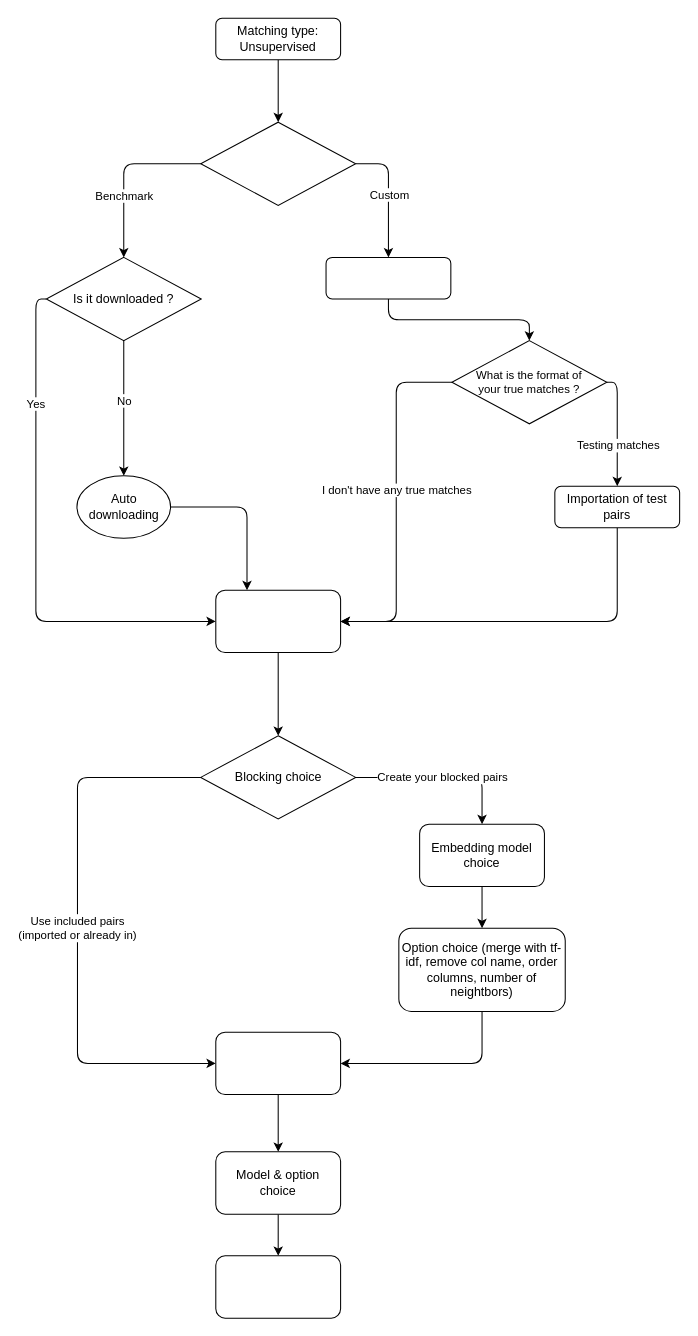
Image size: 698x1336. Some labels were removed from this diagram. Here are the shapes that lost their labels. From the top down, the centre of each, then its label:
(x=278, y=163): Dataset choice
(x=388, y=277): Importation of the tables A & B
(x=278, y=621): Blocking
(x=278, y=1063): Matching
(x=278, y=1286): Download your results
